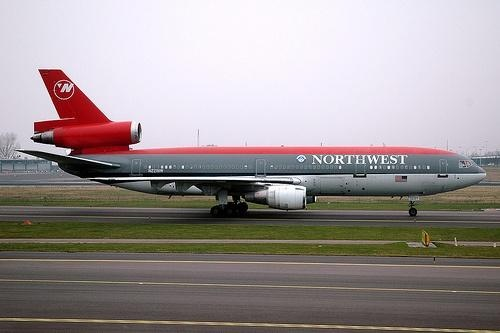aeroplane: (14, 69, 487, 219)
